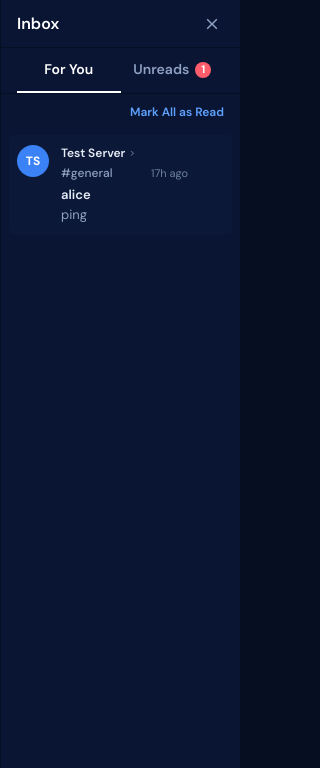
Test: InboxPanel › marks all mentions as read
Click the button "Mark All as Read".
click(177, 113)  # box left=130, top=102, right=224, bottom=123
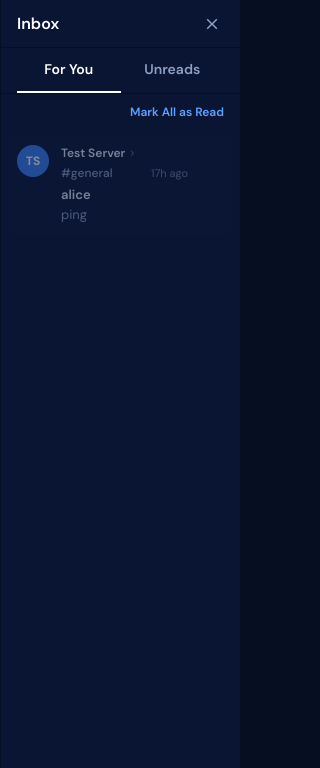
Click the tab "Unreads".
click(172, 71)  # box left=120, top=48, right=224, bottom=93
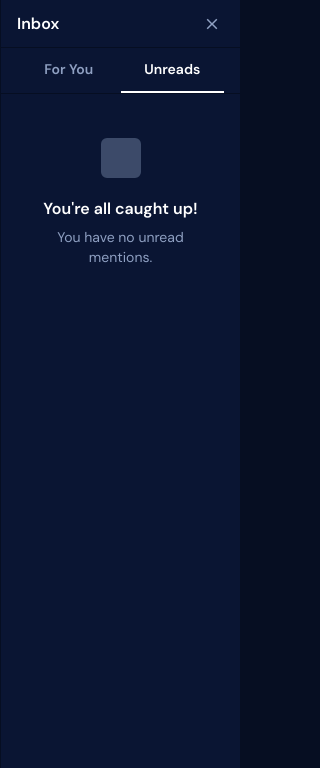
Check: the text "You're all caught up!" is shown, box left=43, top=198, right=198, bottom=220
